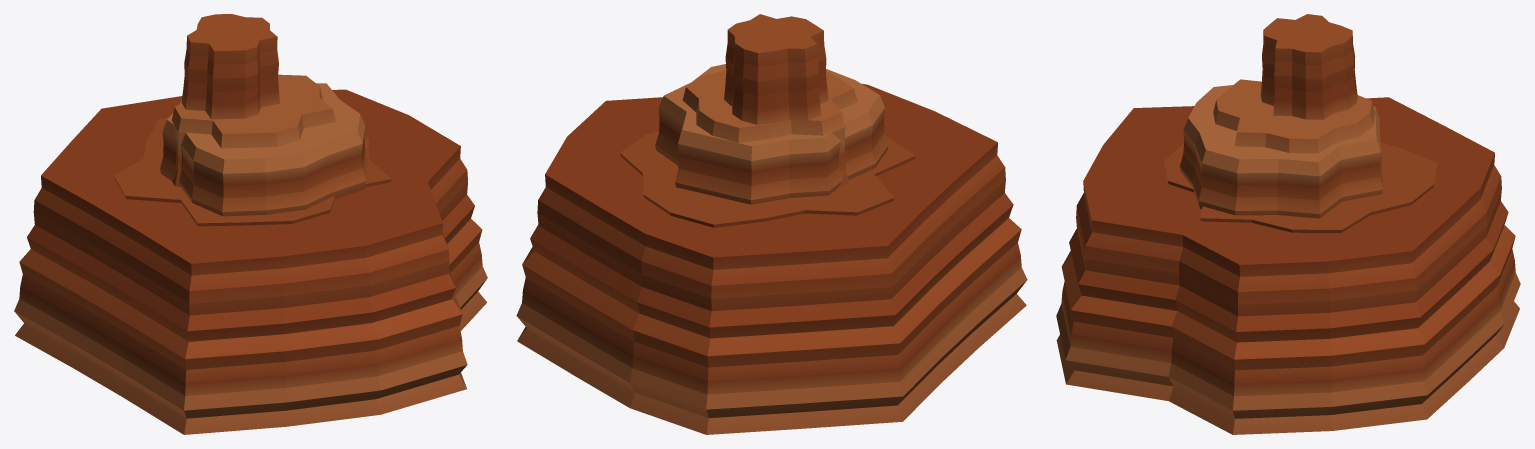
Rendered from props.glb.
3 views of the same model, side by side, from view 1: azimuth 30°, elevation 25°; view 2: azimuth 150°, elevation 25°; view 3: azimuth 270°, elevation 25° (orthographic). The views are drawn at different scales.
Parts seen in each view (by area): view 1: mesa_1, mesa_2, mesa_0; view 2: mesa_1, mesa_2, mesa_0; view 3: mesa_1, mesa_2, mesa_0.
Part boxes in pixels (x1,y1,x2,y2): mesa_1: [14, 89, 487, 434]; mesa_2: [114, 14, 391, 226]; mesa_0: [160, 83, 368, 216]; mesa_1: [516, 83, 1027, 434]; mesa_2: [620, 14, 915, 227]; mesa_0: [655, 64, 888, 204]; mesa_1: [1056, 97, 1520, 434]; mesa_2: [1164, 14, 1437, 232]; mesa_0: [1179, 85, 1383, 218].
Size of the model in its own units: 179 by 130 by 186.
